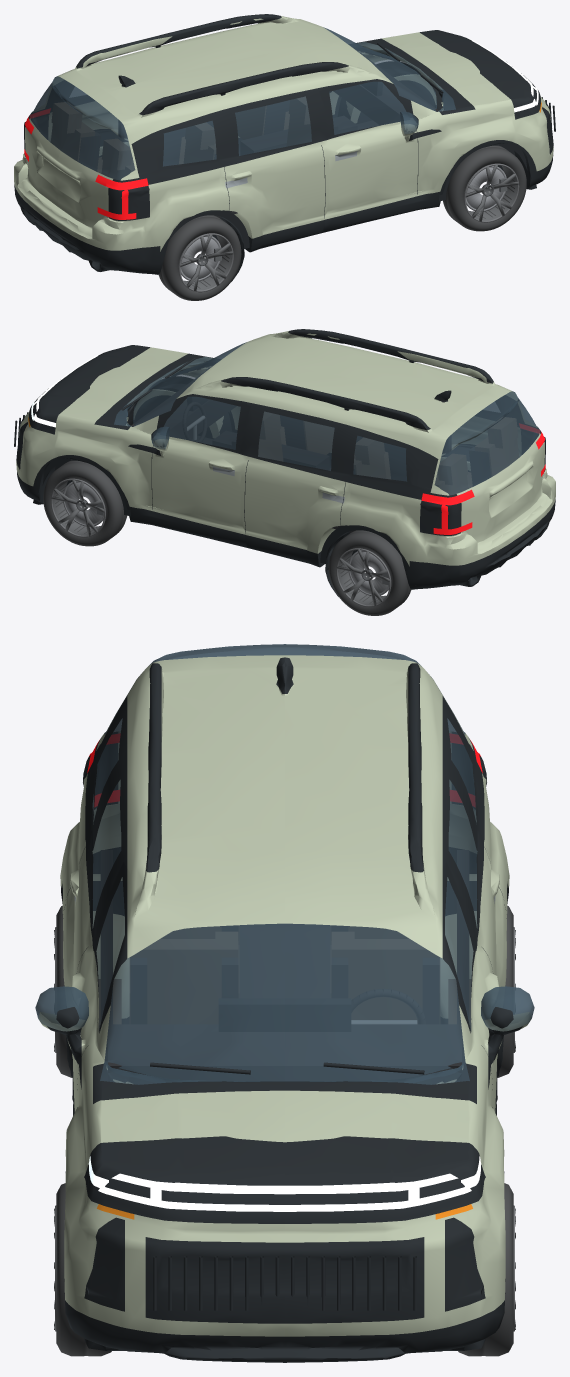
3 renders of one model, top to bottom at view 1: azimuth 30°, elevation 25°; view 2: azimuth 150°, elevation 25°; view 3: azimuth 270°, elevation 25°, orthographic. The views are drawn at different scales.
Parts seen in each view (by area): view 1: body_shell, roof, tailgate, window_frame, door_front_right, door_rear_right, rear_glass, wheel_front_right, wheel_rear_right, hood, glass_rear_right, glass_front_right (+29 smaller); view 2: body_shell, roof, tailgate, window_frame, door_front_left, door_rear_left, rear_glass, wheel_front_left, wheel_rear_left, hood, glass_rear_left, glass_front_left (+29 smaller); view 3: roof, body_shell, windshield, headlight_surround, front_intake, hood, interior_dashboard, front_bumper, window_frame, seat_0_right_back, interior_floor, seat_0_left_back (+31 smaller).
Boxes of the visible parts, <box> form: body_shell: <box>34,18,553,251</box>; roof: <box>57,16,361,125</box>; tailgate: <box>14,111,130,250</box>; window_frame: <box>45,79,413,184</box>; door_front_right: <box>322,124,417,219</box>; door_rear_right: <box>225,147,325,238</box>; rear_glass: <box>29,76,135,180</box>; wheel_front_right: <box>443,145,526,231</box>; wheel_rear_right: <box>158,215,241,300</box>; hood: <box>382,32,512,116</box>; glass_rear_right: <box>235,96,311,155</box>; glass_front_right: <box>329,81,418,134</box>; body_shell: <box>16,333,535,566</box>; roof: <box>208,331,512,440</box>; tailgate: <box>439,427,555,565</box>; window_frame: <box>157,394,524,499</box>; door_front_left: <box>152,439,247,534</box>; door_rear_left: <box>244,462,344,553</box>; rear_glass: <box>434,391,540,495</box>; wheel_front_left: <box>43,460,126,546</box>; wheel_rear_left: <box>328,530,411,615</box>; hood: <box>57,347,200,431</box>; glass_rear_left: <box>258,411,334,470</box>; glass_front_left: <box>151,396,240,449</box>; roof: <box>131,655,438,895</box>; body_shell: <box>38,665,531,1336</box>; windshield: <box>100,923,469,1084</box>; headlight_surround: <box>84,1136,485,1223</box>; front_intake: <box>145,1237,424,1323</box>; hood: <box>87,1090,482,1147</box>; interior_dashboard: <box>108,1024,461,1081</box>; front_bumper: <box>64,1293,505,1362</box>; window_frame: <box>85,696,484,1033</box>; seat_0_right_back: <box>131,932,237,1023</box>; interior_floor: <box>239,924,330,997</box>; seat_0_left_back: <box>332,932,438,1023</box>.
Size of the model in its own units: 4.83 by 1.85 by 2.19.
